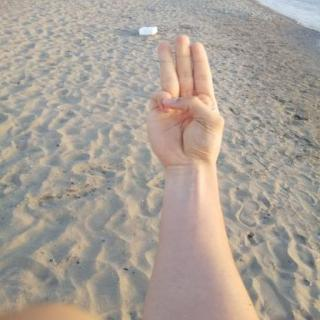THA: (136, 28, 239, 174)
